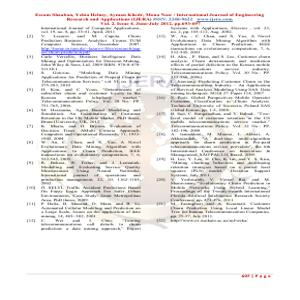text: (152, 26, 274, 230), (25, 26, 144, 234), (32, 9, 273, 25)
